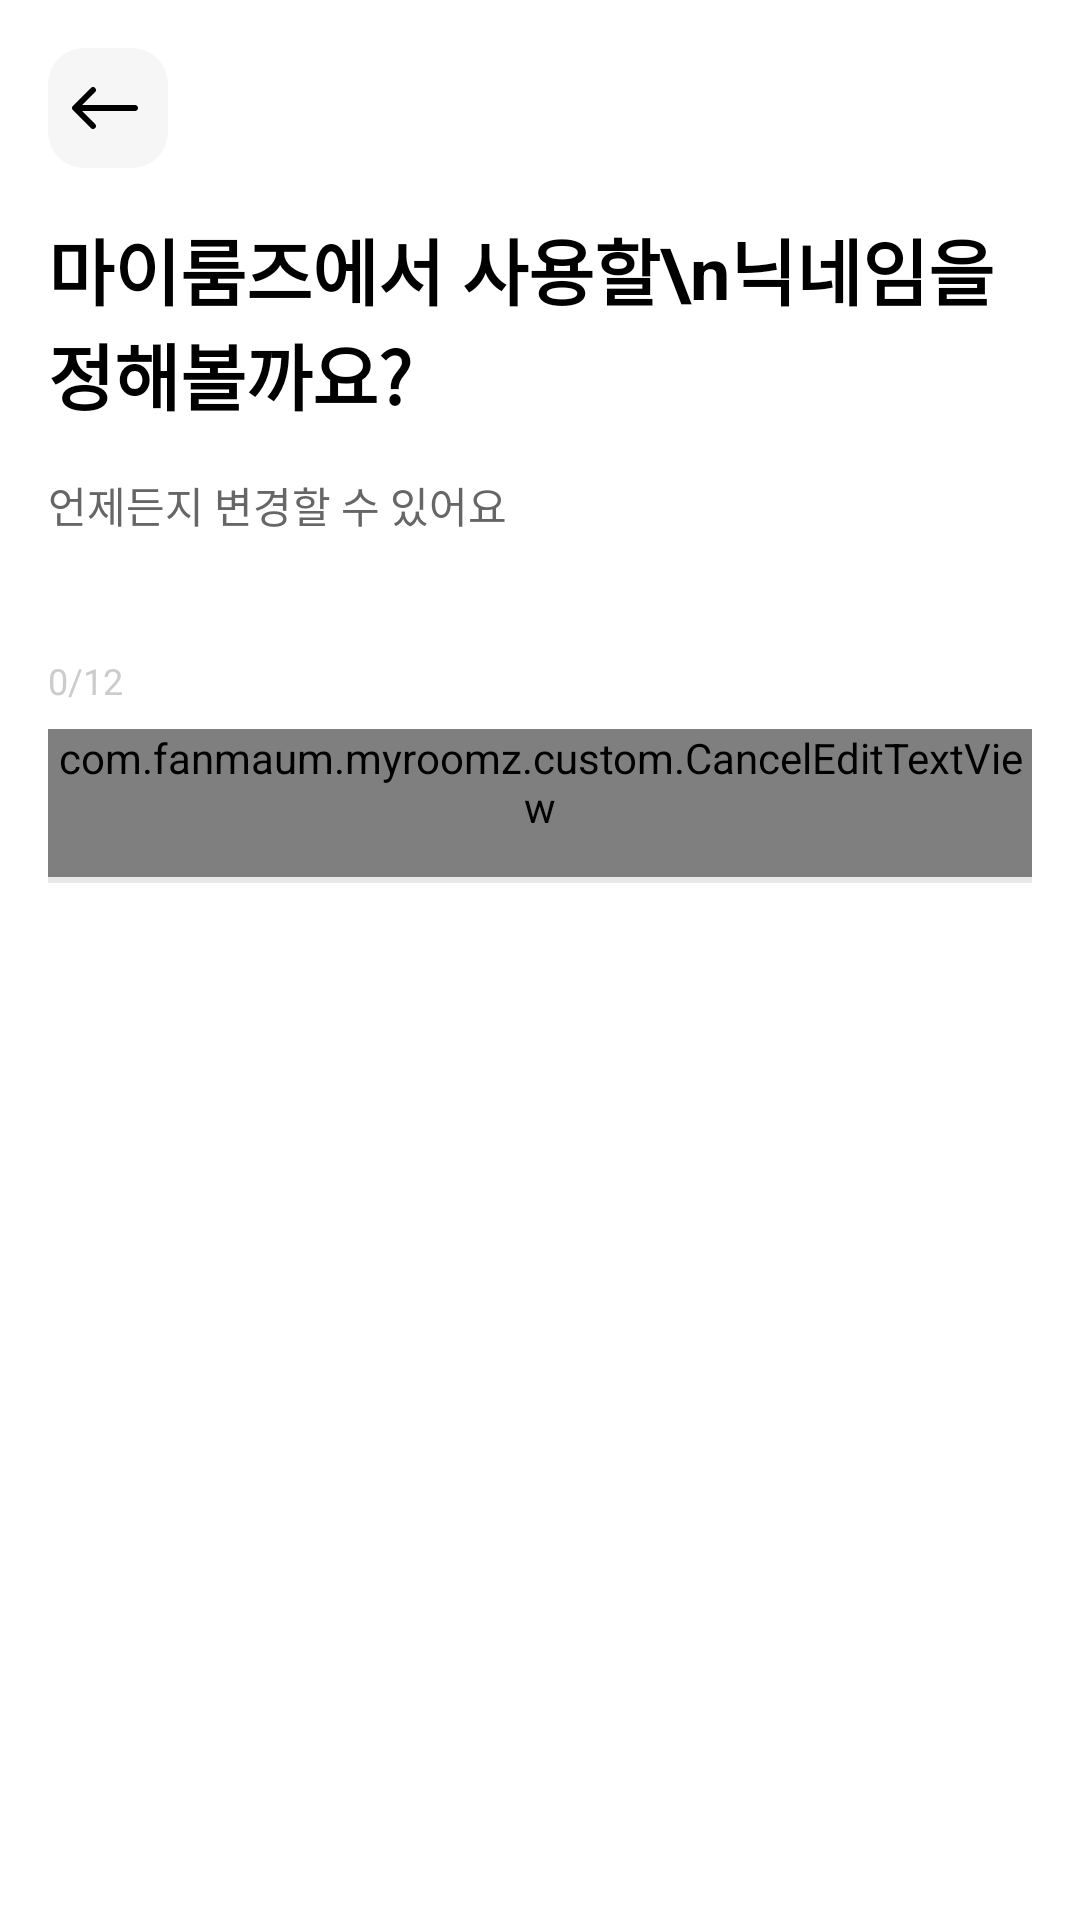

Named icons in this screenshot (1080w x 1920h) and their centers, point (x, y):
arrow left: point (108, 108)
